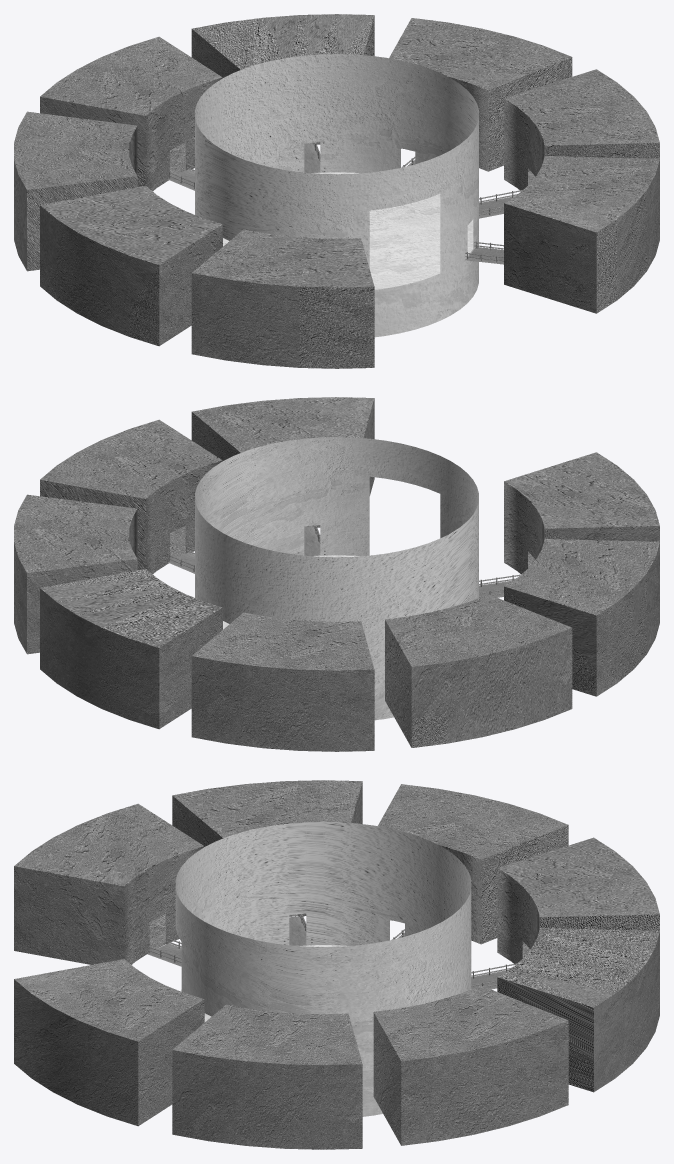
The model's file is Fachada.obj.
3 renders of one model, top to bottom at view 1: azimuth 30°, elevation 25°; view 2: azimuth 150°, elevation 25°; view 3: azimuth 270°, elevation 25°, orthographic. The views are drawn at different scales.
Parts seen in each view (by area): view 1: pCylinder73, pCylinder72 polySurface6, pCylinder72 polySurface5, pCylinder72 polySurface7, pCylinder72 polySurface3, pCylinder72 polySurface8, pCylinder72 polySurface4, polySurface1 pCylinder72, pCylinder72 polySurface2, pDisc1; view 2: pCylinder73, pCylinder72 polySurface4, pCylinder72 polySurface3, pCylinder72 polySurface2, pCylinder72 polySurface5, pCylinder72 polySurface8, pCylinder72 polySurface6, polySurface1 pCylinder72, pCylinder72 polySurface7; view 3: pCylinder73, polySurface1 pCylinder72, pCylinder72 polySurface8, pCylinder72 polySurface7, pCylinder72 polySurface6, pCylinder72 polySurface2, pCylinder72 polySurface3, pCylinder72 polySurface4, pCylinder72 polySurface5.
Part boxes in pixels (x1=…): pCylinder73: x1=195, y1=54, x2=478, y2=337; pCylinder72 polySurface6: x1=191, y1=229, x2=374, y2=368; pCylinder72 polySurface5: x1=40, y1=185, x2=222, y2=346; pCylinder72 polySurface7: x1=504, y1=156, x2=659, y2=313; pCylinder72 polySurface3: x1=40, y1=36, x2=222, y2=191; pCylinder72 polySurface8: x1=504, y1=69, x2=659, y2=190; pCylinder72 polySurface4: x1=14, y1=111, x2=137, y2=271; polySurface1 pCylinder72: x1=389, y1=18, x2=572, y2=171; pCylinder72 polySurface2: x1=191, y1=14, x2=374, y2=144; pDisc1: x1=223, y1=172, x2=473, y2=289; pCylinder73: x1=195, y1=437, x2=478, y2=720; pCylinder72 polySurface4: x1=385, y1=594, x2=572, y2=747; pCylinder72 polySurface3: x1=191, y1=612, x2=374, y2=751; pCylinder72 polySurface2: x1=40, y1=568, x2=222, y2=729; pCylinder72 polySurface5: x1=504, y1=539, x2=659, y2=696; pCylinder72 polySurface8: x1=40, y1=419, x2=222, y2=574; pCylinder72 polySurface6: x1=504, y1=452, x2=659, y2=574; polySurface1 pCylinder72: x1=14, y1=494, x2=137, y2=654; pCylinder72 polySurface7: x1=191, y1=397, x2=374, y2=527; pCylinder73: x1=175, y1=821, x2=471, y2=1116; polySurface1 pCylinder72: x1=373, y1=985, x2=568, y2=1145; pCylinder72 polySurface8: x1=172, y1=1004, x2=362, y2=1149; pCylinder72 polySurface7: x1=14, y1=959, x2=204, y2=1126; pCylinder72 polySurface6: x1=14, y1=803, x2=204, y2=964; pCylinder72 polySurface2: x1=497, y1=928, x2=659, y2=1092; pCylinder72 polySurface3: x1=497, y1=837, x2=659, y2=963; pCylinder72 polySurface4: x1=378, y1=784, x2=568, y2=944; pCylinder72 polySurface5: x1=172, y1=780, x2=362, y2=916.
Size of what is drawn, in the model's own units: 49.66 by 14 by 47.59.
